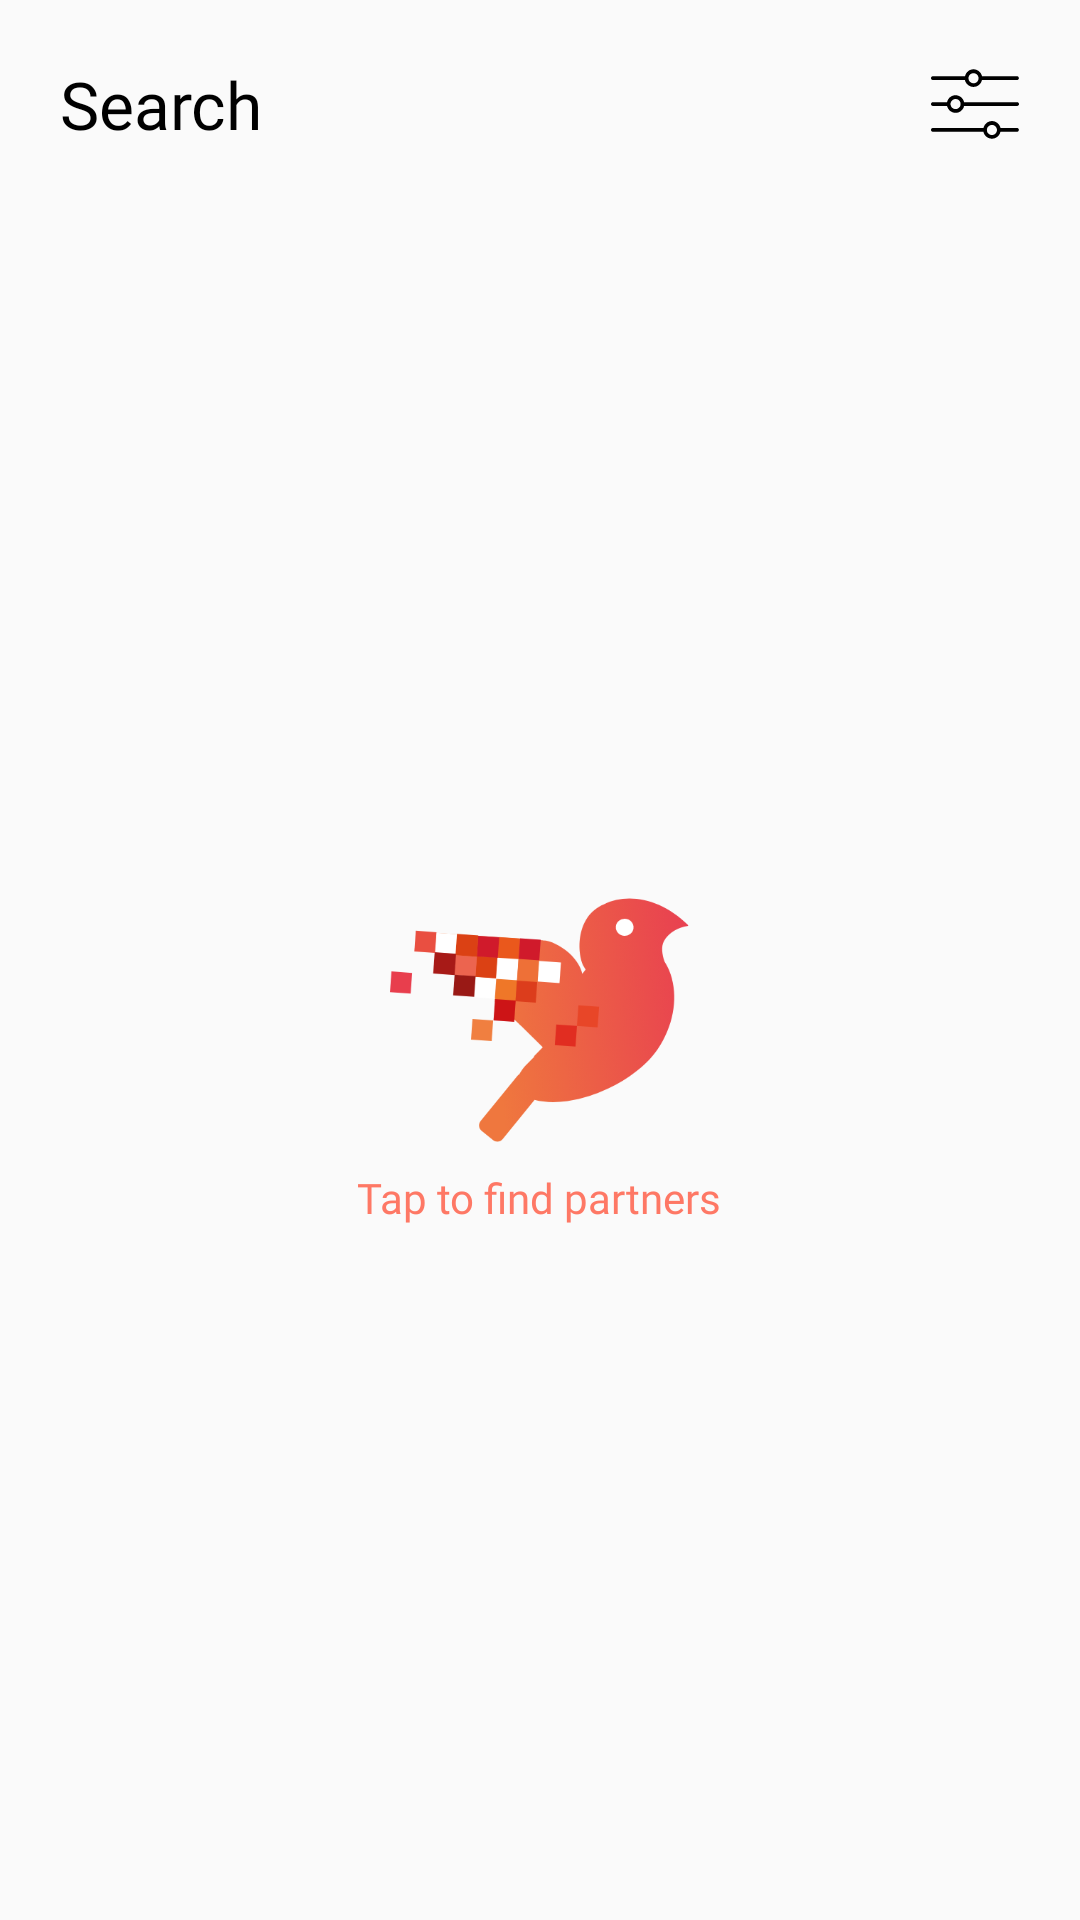

Icon bounding boxes for this 1080w x 1920h phone screenshot, format (x1, y1, x2, y2):
filters: (931, 69, 1019, 139)
